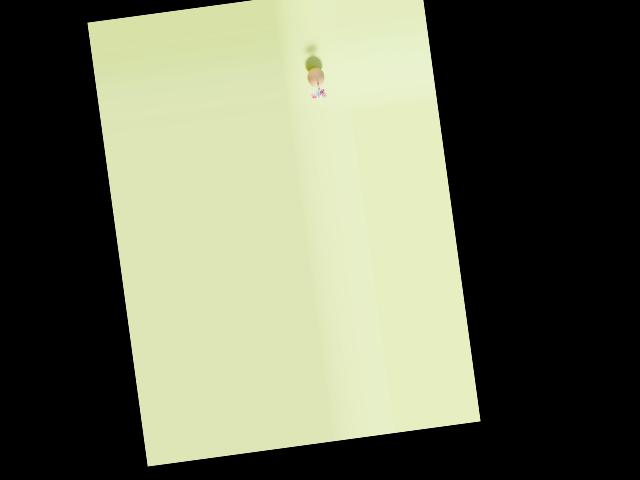egg: (306, 66, 325, 88)
